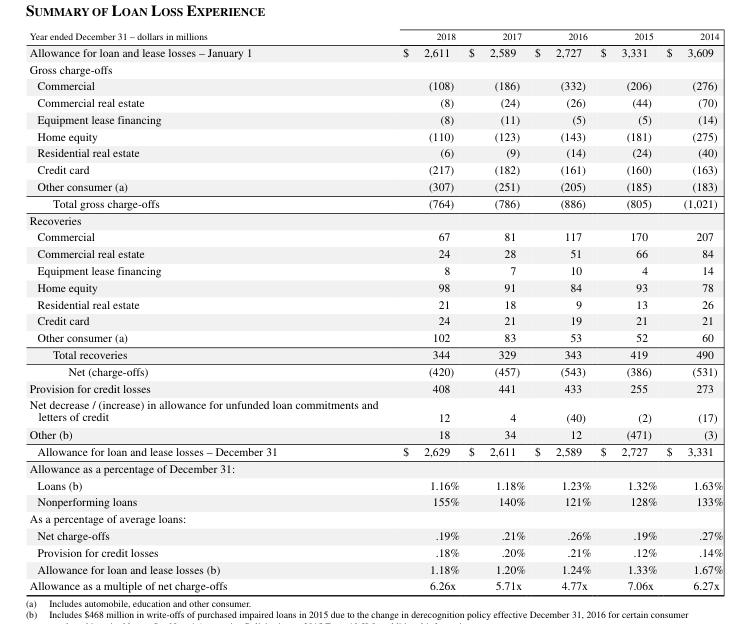table: (28, 28, 722, 592)
table column: (28, 28, 389, 592), (389, 28, 463, 592), (463, 28, 529, 592), (529, 28, 595, 592), (595, 28, 661, 592), (661, 28, 722, 592)
table column header: (28, 28, 722, 42)
table projected row header: (28, 59, 722, 76), (28, 210, 722, 227), (28, 458, 722, 475), (28, 509, 722, 526)
table row: (28, 395, 722, 425), (28, 42, 722, 59), (28, 59, 722, 76), (28, 76, 722, 93), (28, 93, 722, 110), (28, 126, 722, 143), (28, 143, 722, 160), (28, 160, 722, 177), (28, 193, 722, 210), (28, 210, 722, 227), (28, 227, 722, 244), (28, 244, 722, 261), (28, 277, 722, 294), (28, 294, 722, 311), (28, 311, 722, 328), (28, 328, 722, 345), (28, 361, 722, 378), (28, 378, 722, 395), (28, 425, 722, 442), (28, 458, 722, 475), (28, 475, 722, 492), (28, 492, 722, 509), (28, 509, 722, 526), (28, 542, 722, 559), (28, 559, 722, 576), (28, 110, 722, 126), (28, 177, 722, 193), (28, 261, 722, 277), (28, 345, 722, 361), (28, 442, 722, 458), (28, 526, 722, 542), (28, 576, 722, 592), (28, 28, 722, 42)
